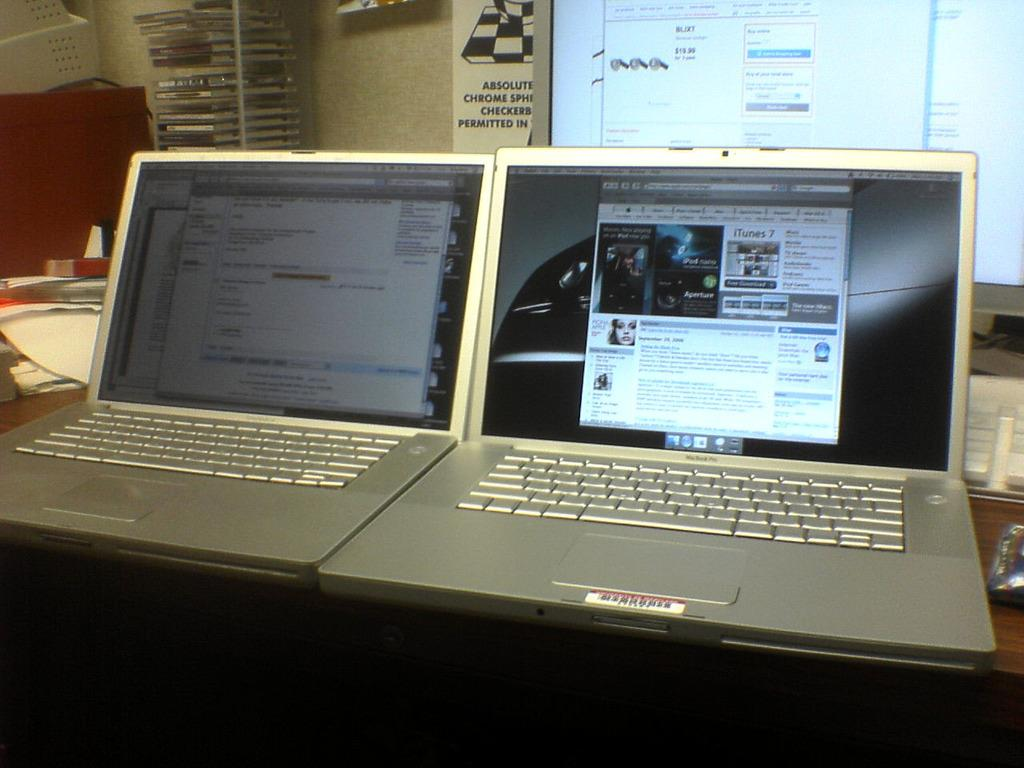Computer-keyboard: (457, 447, 906, 554), (11, 405, 403, 489), (962, 374, 1023, 506)
Laptop: (321, 150, 995, 666), (4, 158, 554, 574)
